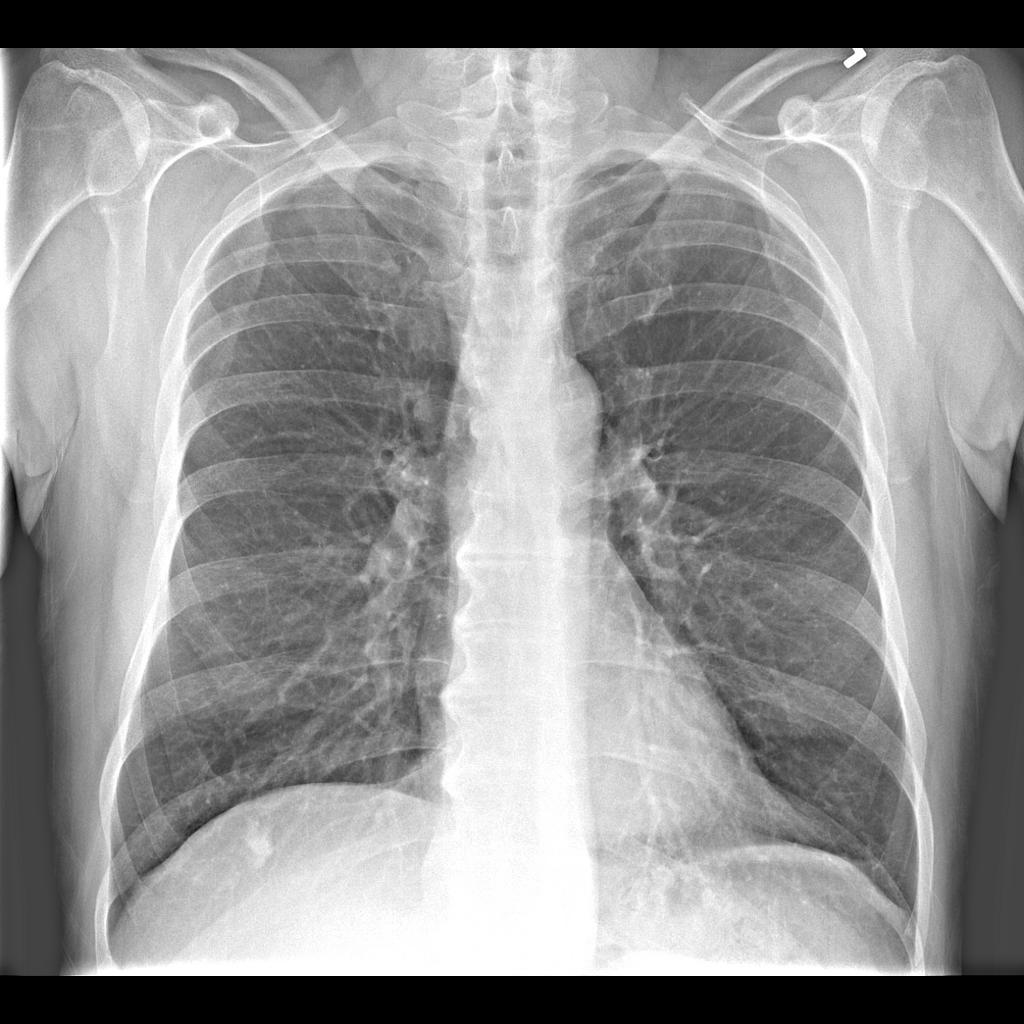Nodule: (243, 823, 281, 866)
